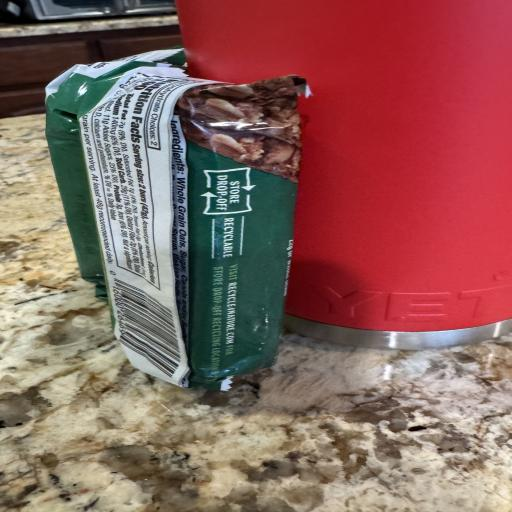granola: (77, 67, 303, 388)
